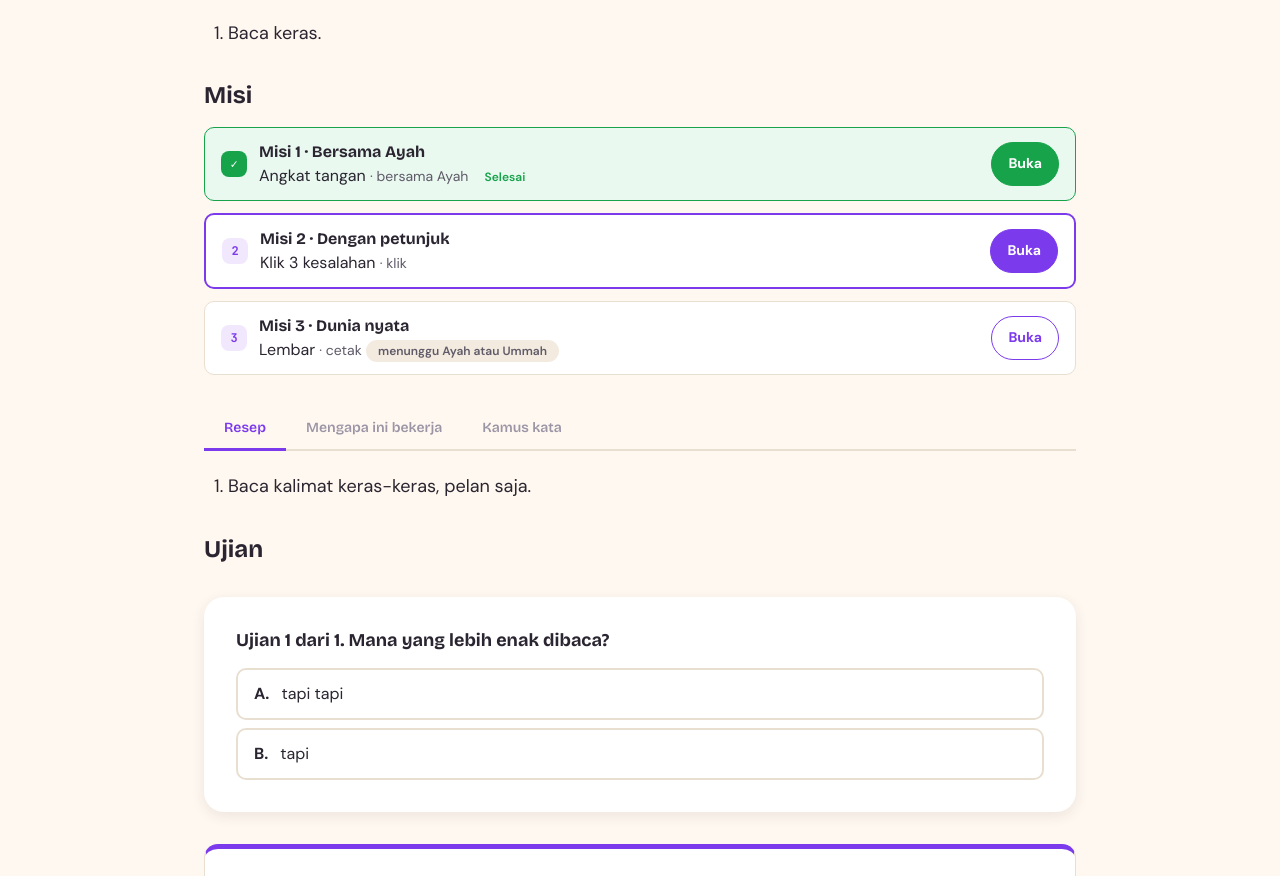
Test: Modul › modul tanpa AI: Latihan Bertanya, daftar misi dengan status, tab, dan slot stiker
(page scrolled)
Expected: the text "Selesai" is shown, left=473, top=166, right=537, bottom=188
Expected: the text "menunggu Ayah atau Ummah" is shown, left=366, top=340, right=559, bottom=362
What coordinates should you click on to do the following:
click the tab "Kamus kata"
I would click on:
 (522, 429)
Its box is left=462, top=407, right=582, bottom=451.
(page scrolled)
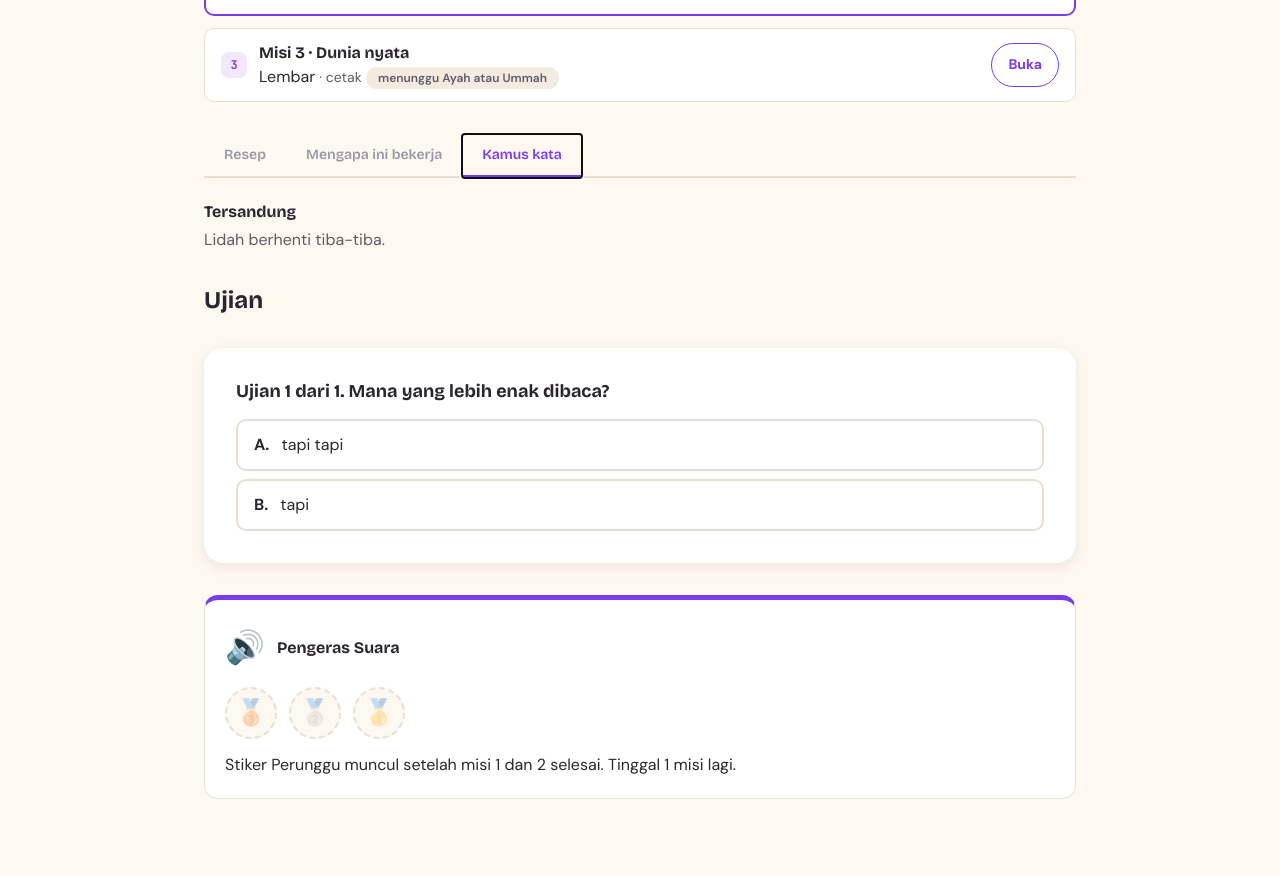
Expected: the text "Stiker Perunggu muncul setelah misi 1 dan 2 selesai. Tinggal 1 misi lagi." is shown, left=225, top=754, right=736, bottom=775
Expected: the text "Lidah berhenti tiba-tiba." is shown, left=204, top=228, right=385, bottom=250
